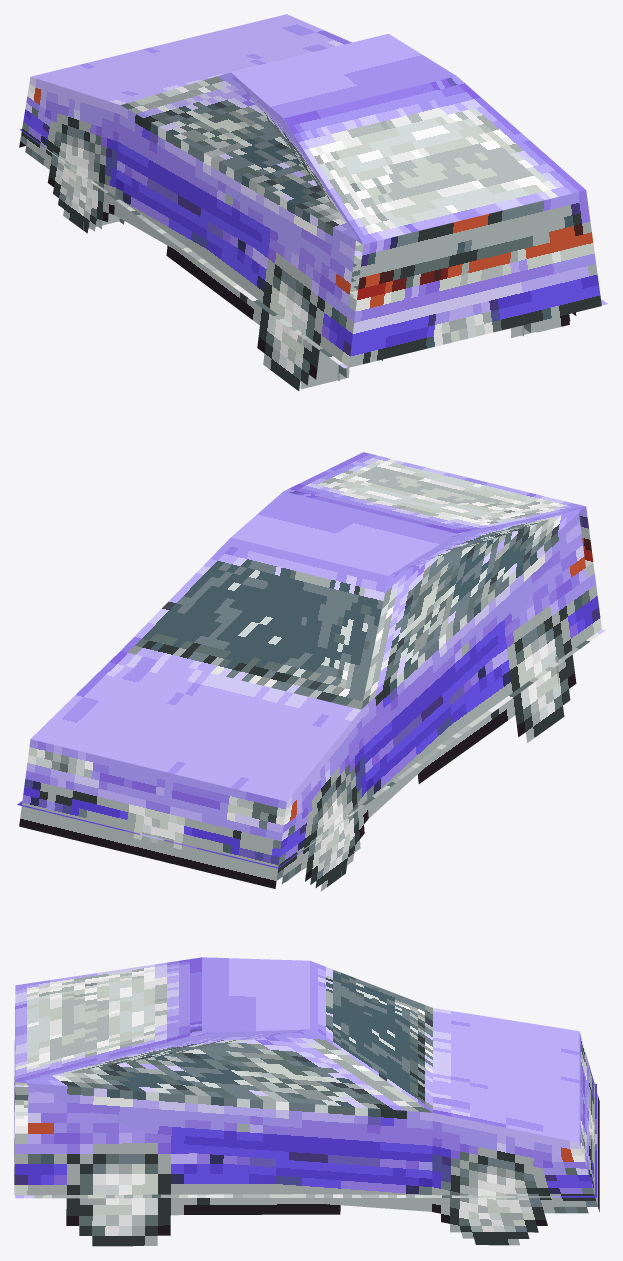
The model's file is car-crx.glb.
The picture shows the model from 3 angles, top to bottom: view 1: azimuth 30°, elevation 25°; view 2: azimuth 150°, elevation 25°; view 3: azimuth 270°, elevation 25°; orthographic projection. The views are drawn at different scales.
Parts seen in each view (by area): view 1: car-crx; view 2: car-crx; view 3: car-crx.
Boxes of the visible parts, bbox=[...] form: car-crx: bbox=[19, 14, 607, 390]; car-crx: bbox=[17, 452, 605, 891]; car-crx: bbox=[14, 957, 599, 1246].
Bounding box in the file's own units: 1.61 × 1.26 × 3.48.
13 materials, 13 textured.
